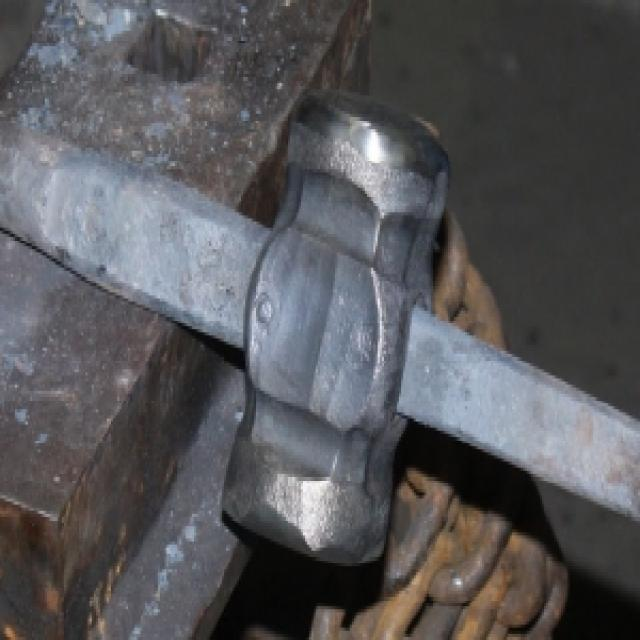hammer: (0, 69, 469, 573)
